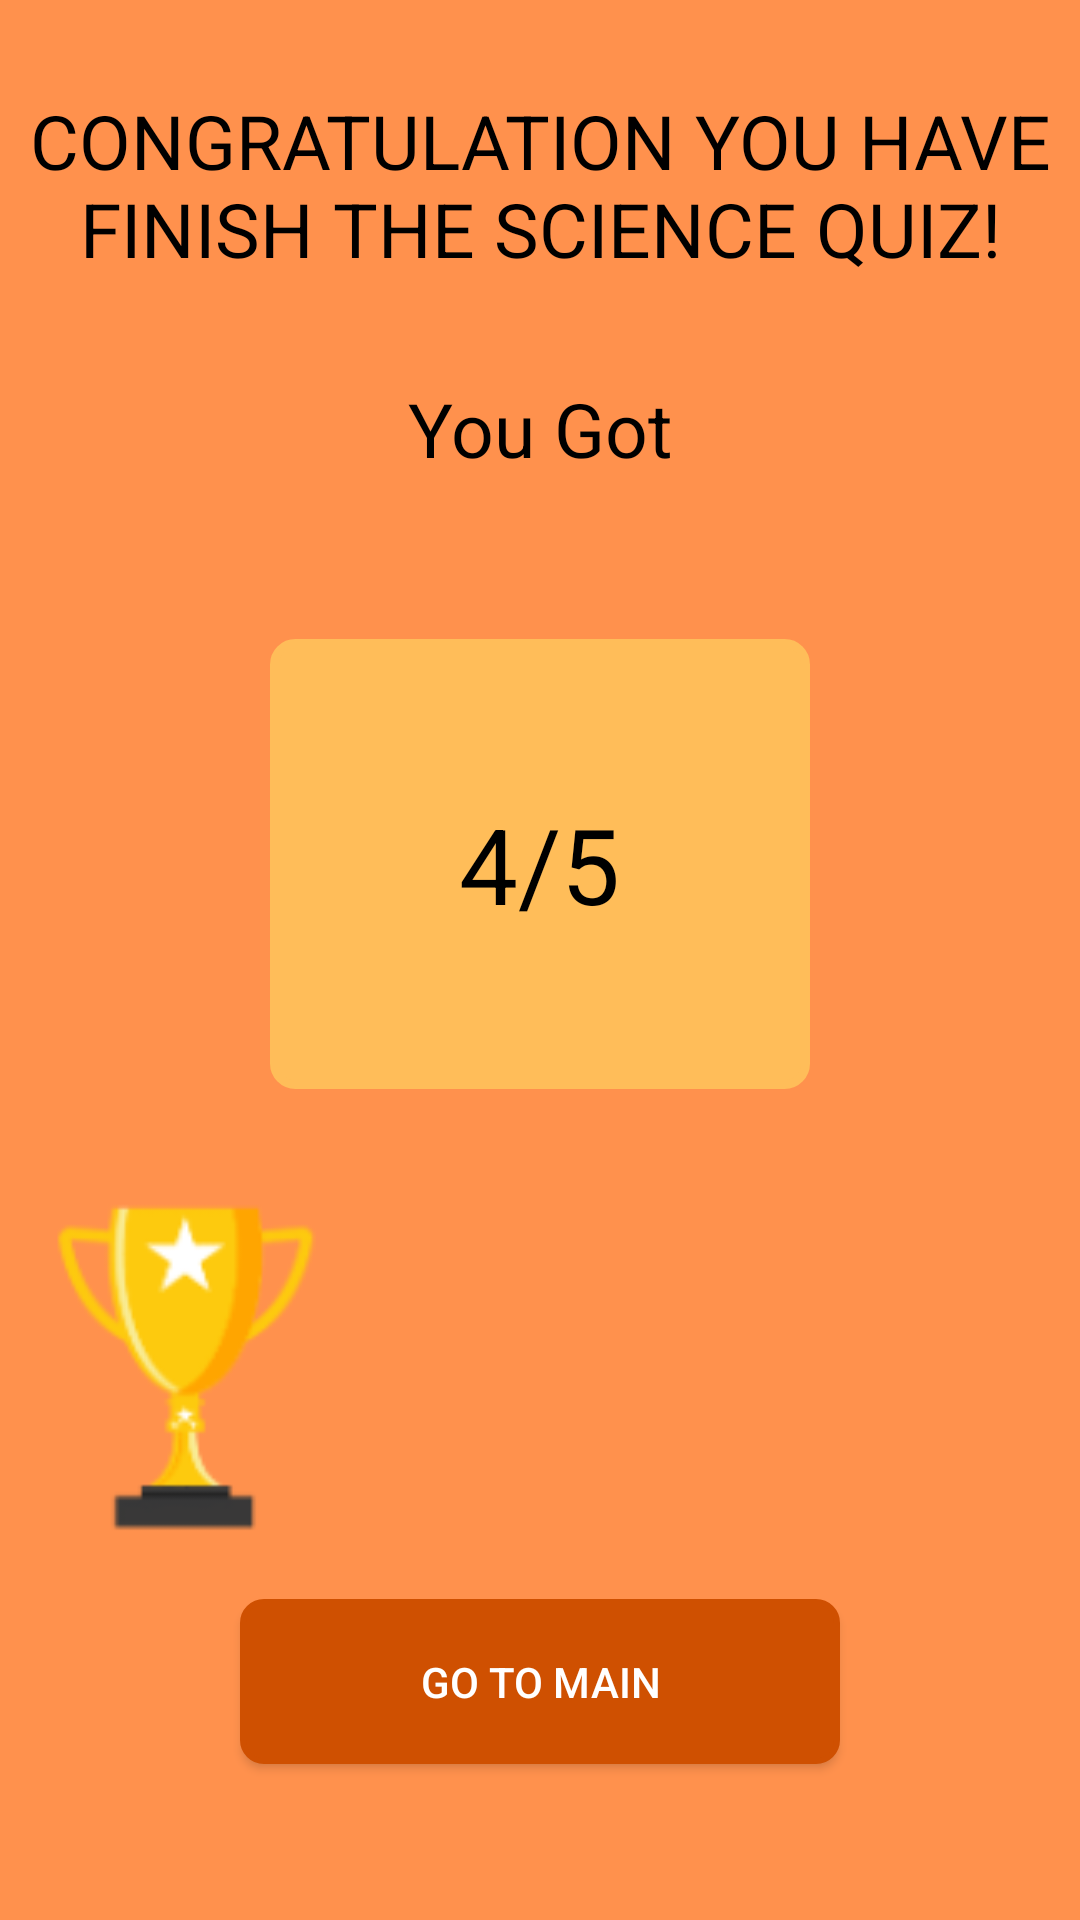

Named icons in this screenshot (1080w x 1920h) and their bounding boxes, box=[x1, y1, x2, y2]:
cup: box=[58, 1208, 313, 1530]
